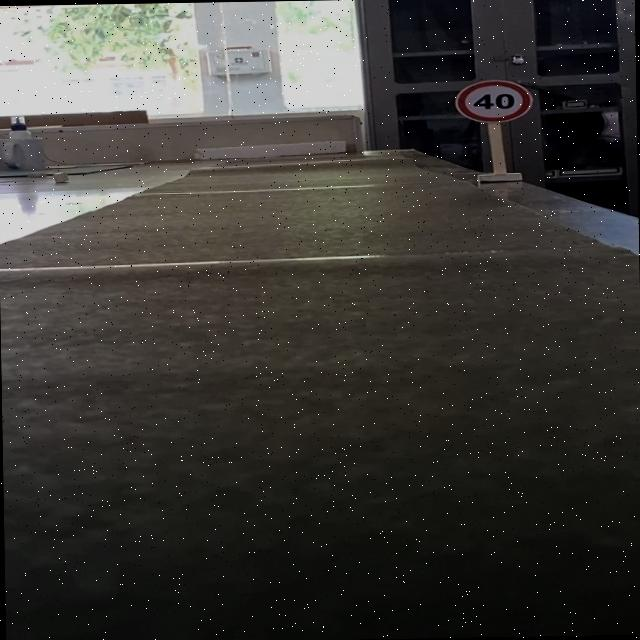Speed40: (452, 76, 536, 126)
